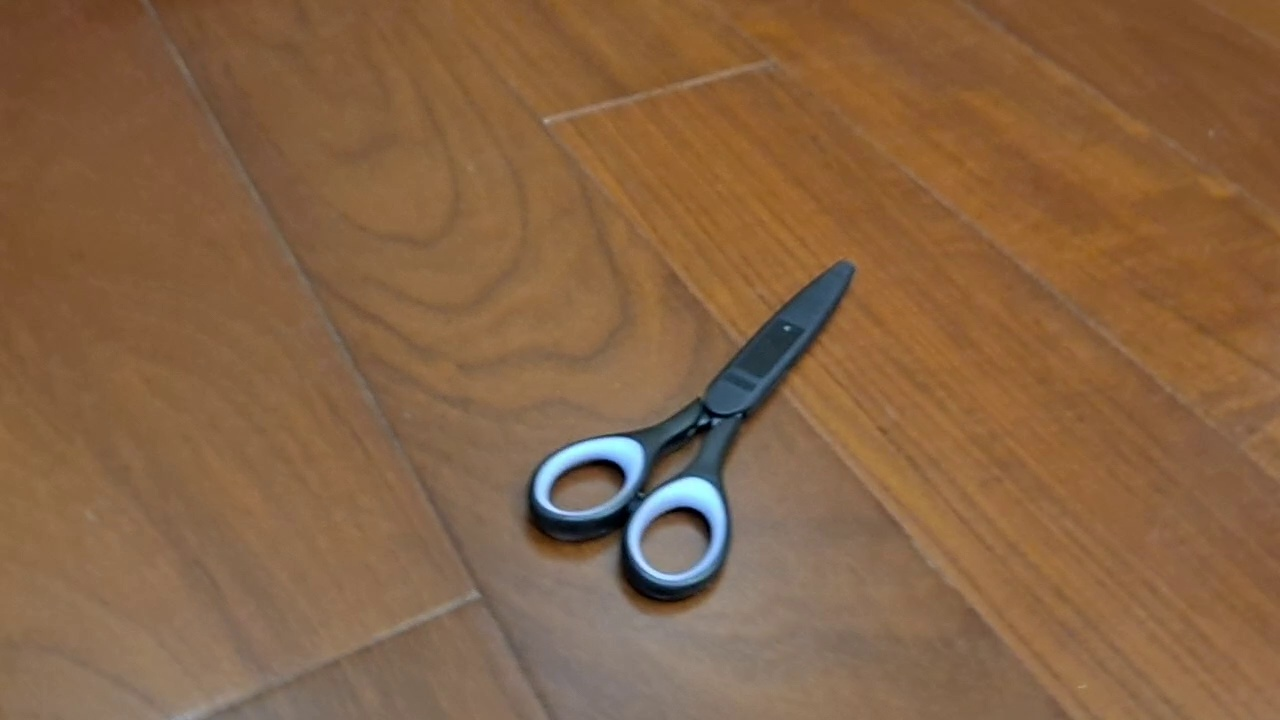scissors: (524, 257, 856, 604)
